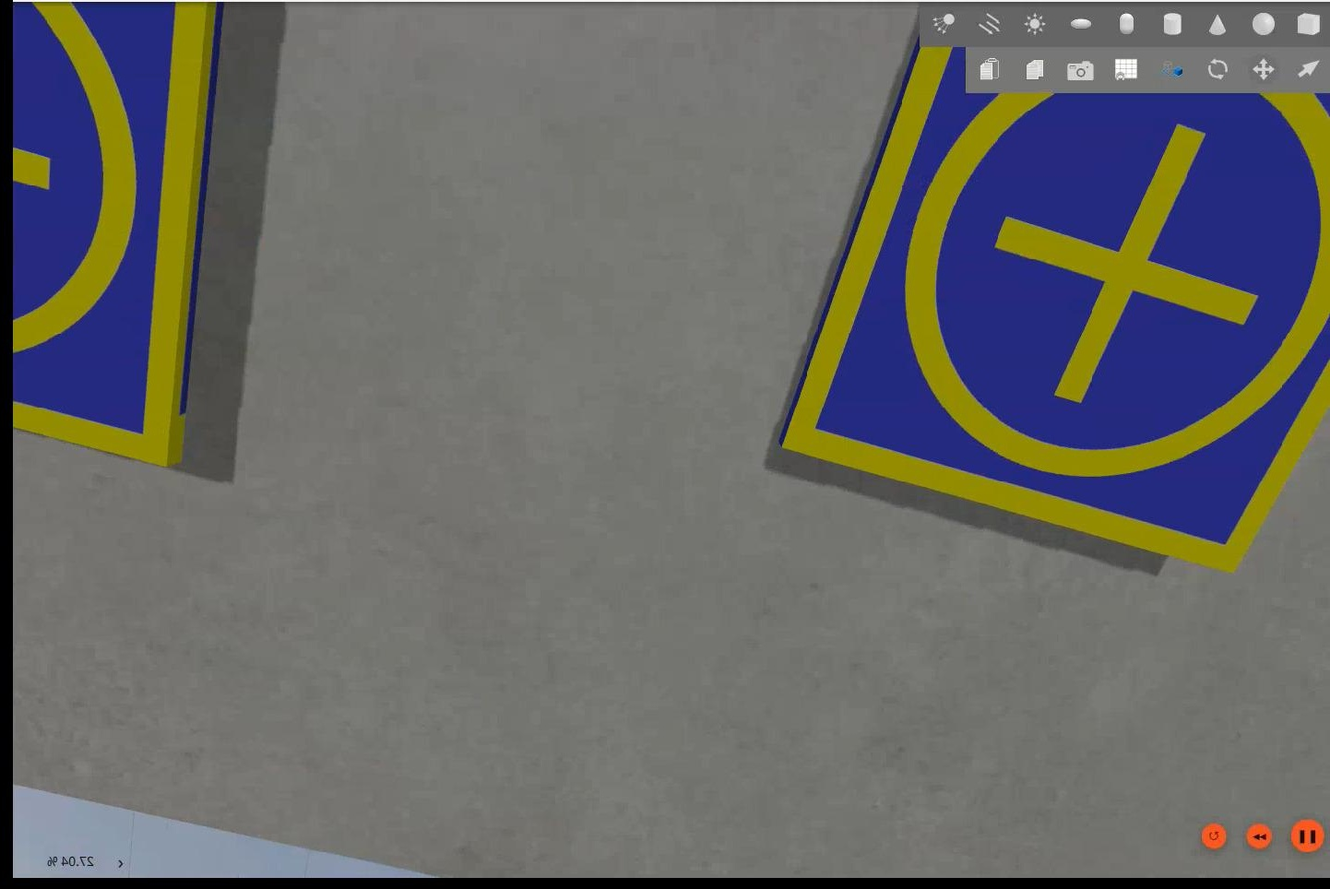small_base: (772, 10, 1328, 568), (10, 1, 220, 465)
